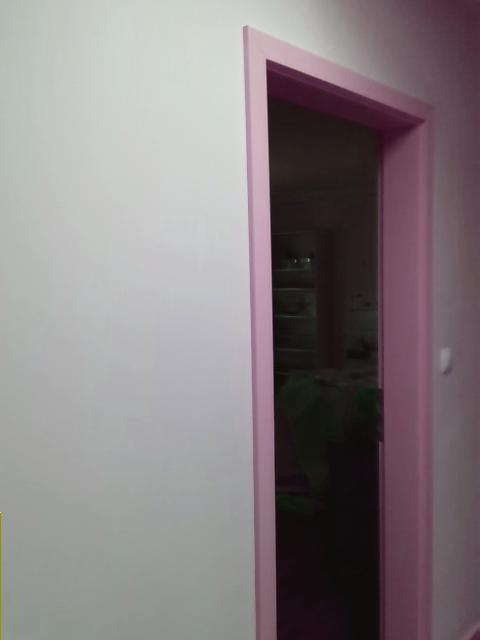open_door: (260, 53, 428, 639)
